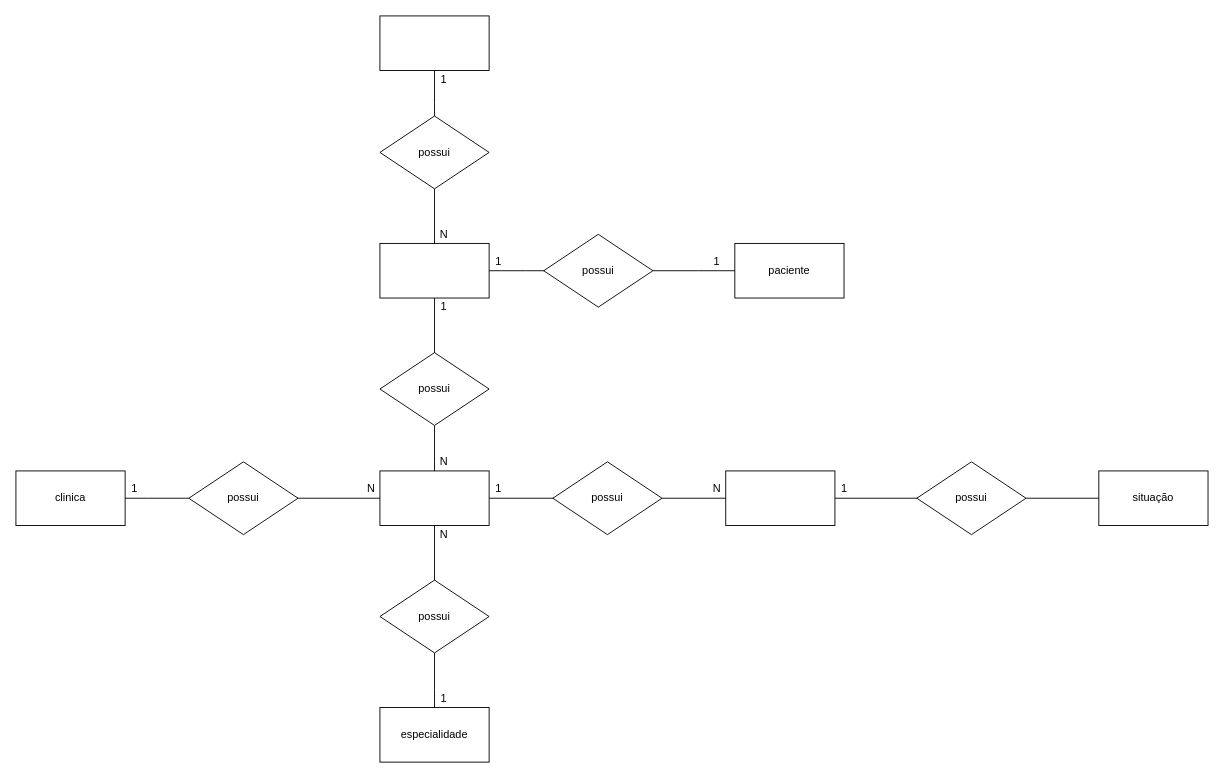
The diagram is 1224 pixels wide and 778 high, and some of its shapes have lost their labels. The shapes that lost their labels are listed below. From the top down, each one's centre as x and y in pixels, then its label:
At [434,43]: "tipoUsuario".
At [434,270]: "Usuario".
At [434,498]: "medico".
At [780,498]: "consulta".
